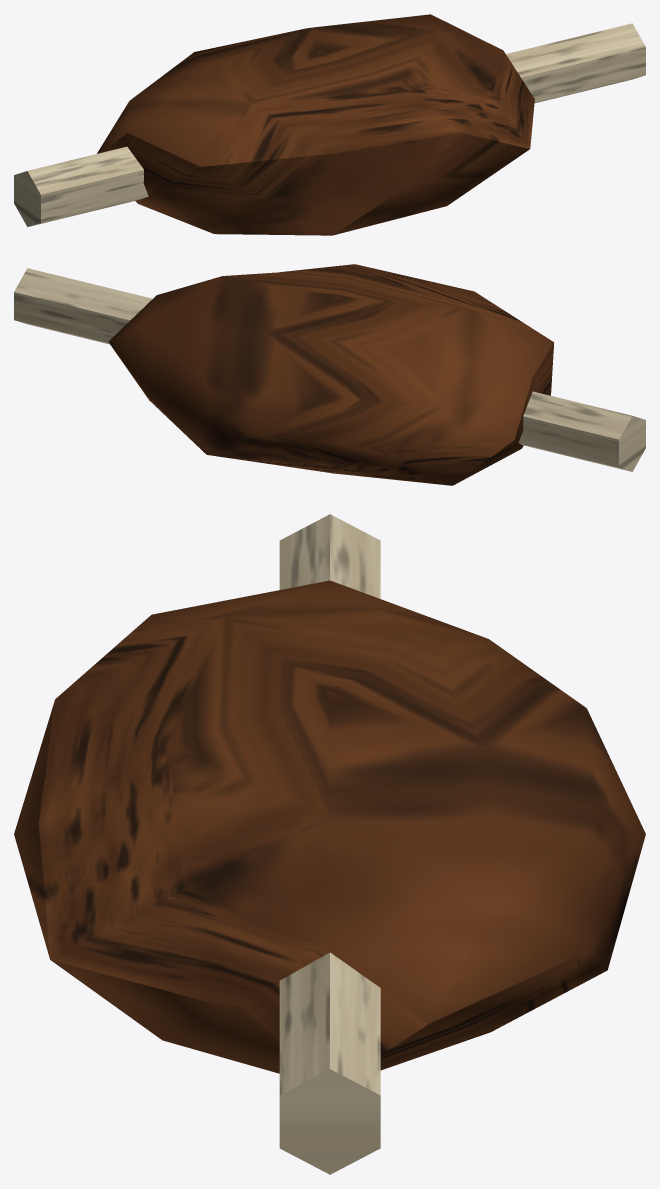
File: ITEM_CookedMeat.fbx
The picture shows the model from 3 angles, top to bottom: view 1: azimuth 30°, elevation 25°; view 2: azimuth 150°, elevation 25°; view 3: azimuth 270°, elevation 25°; orthographic projection. The views are drawn at different scales.
Visible parts, largest first — view 1: ITEM_CookedMeat; view 2: ITEM_CookedMeat; view 3: ITEM_CookedMeat.
Boxes of the visible parts, bbox=[...] form: ITEM_CookedMeat: bbox=[14, 14, 645, 235]; ITEM_CookedMeat: bbox=[14, 264, 645, 485]; ITEM_CookedMeat: bbox=[14, 514, 645, 1174].
Bounding box in the file's own units: 0.27 × 0.0658 × 0.1299.
